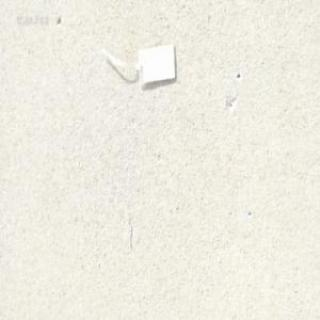LuggageTagtrack_idkeyframe: (99, 40, 176, 89)
